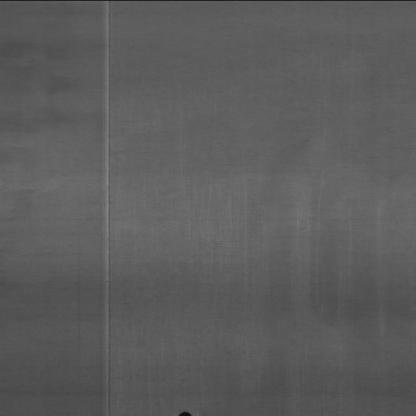punching_hole: (173, 409, 196, 416)
welding_line: (94, 2, 122, 416)
